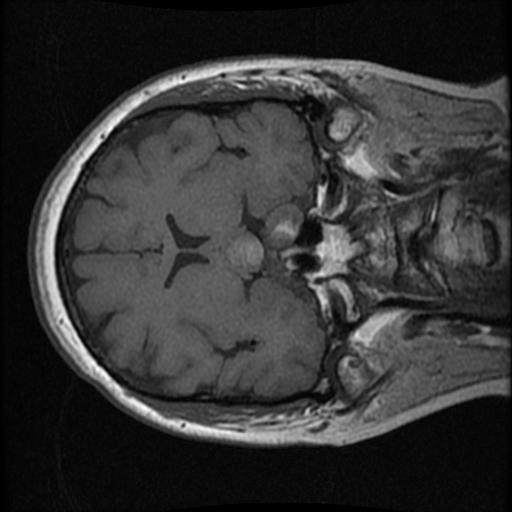pituitary tumour: (227, 203, 301, 276)
